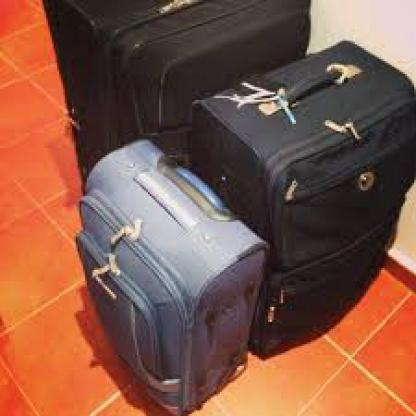maleta: (178, 42, 414, 368), (19, 1, 329, 212), (63, 135, 266, 412)
